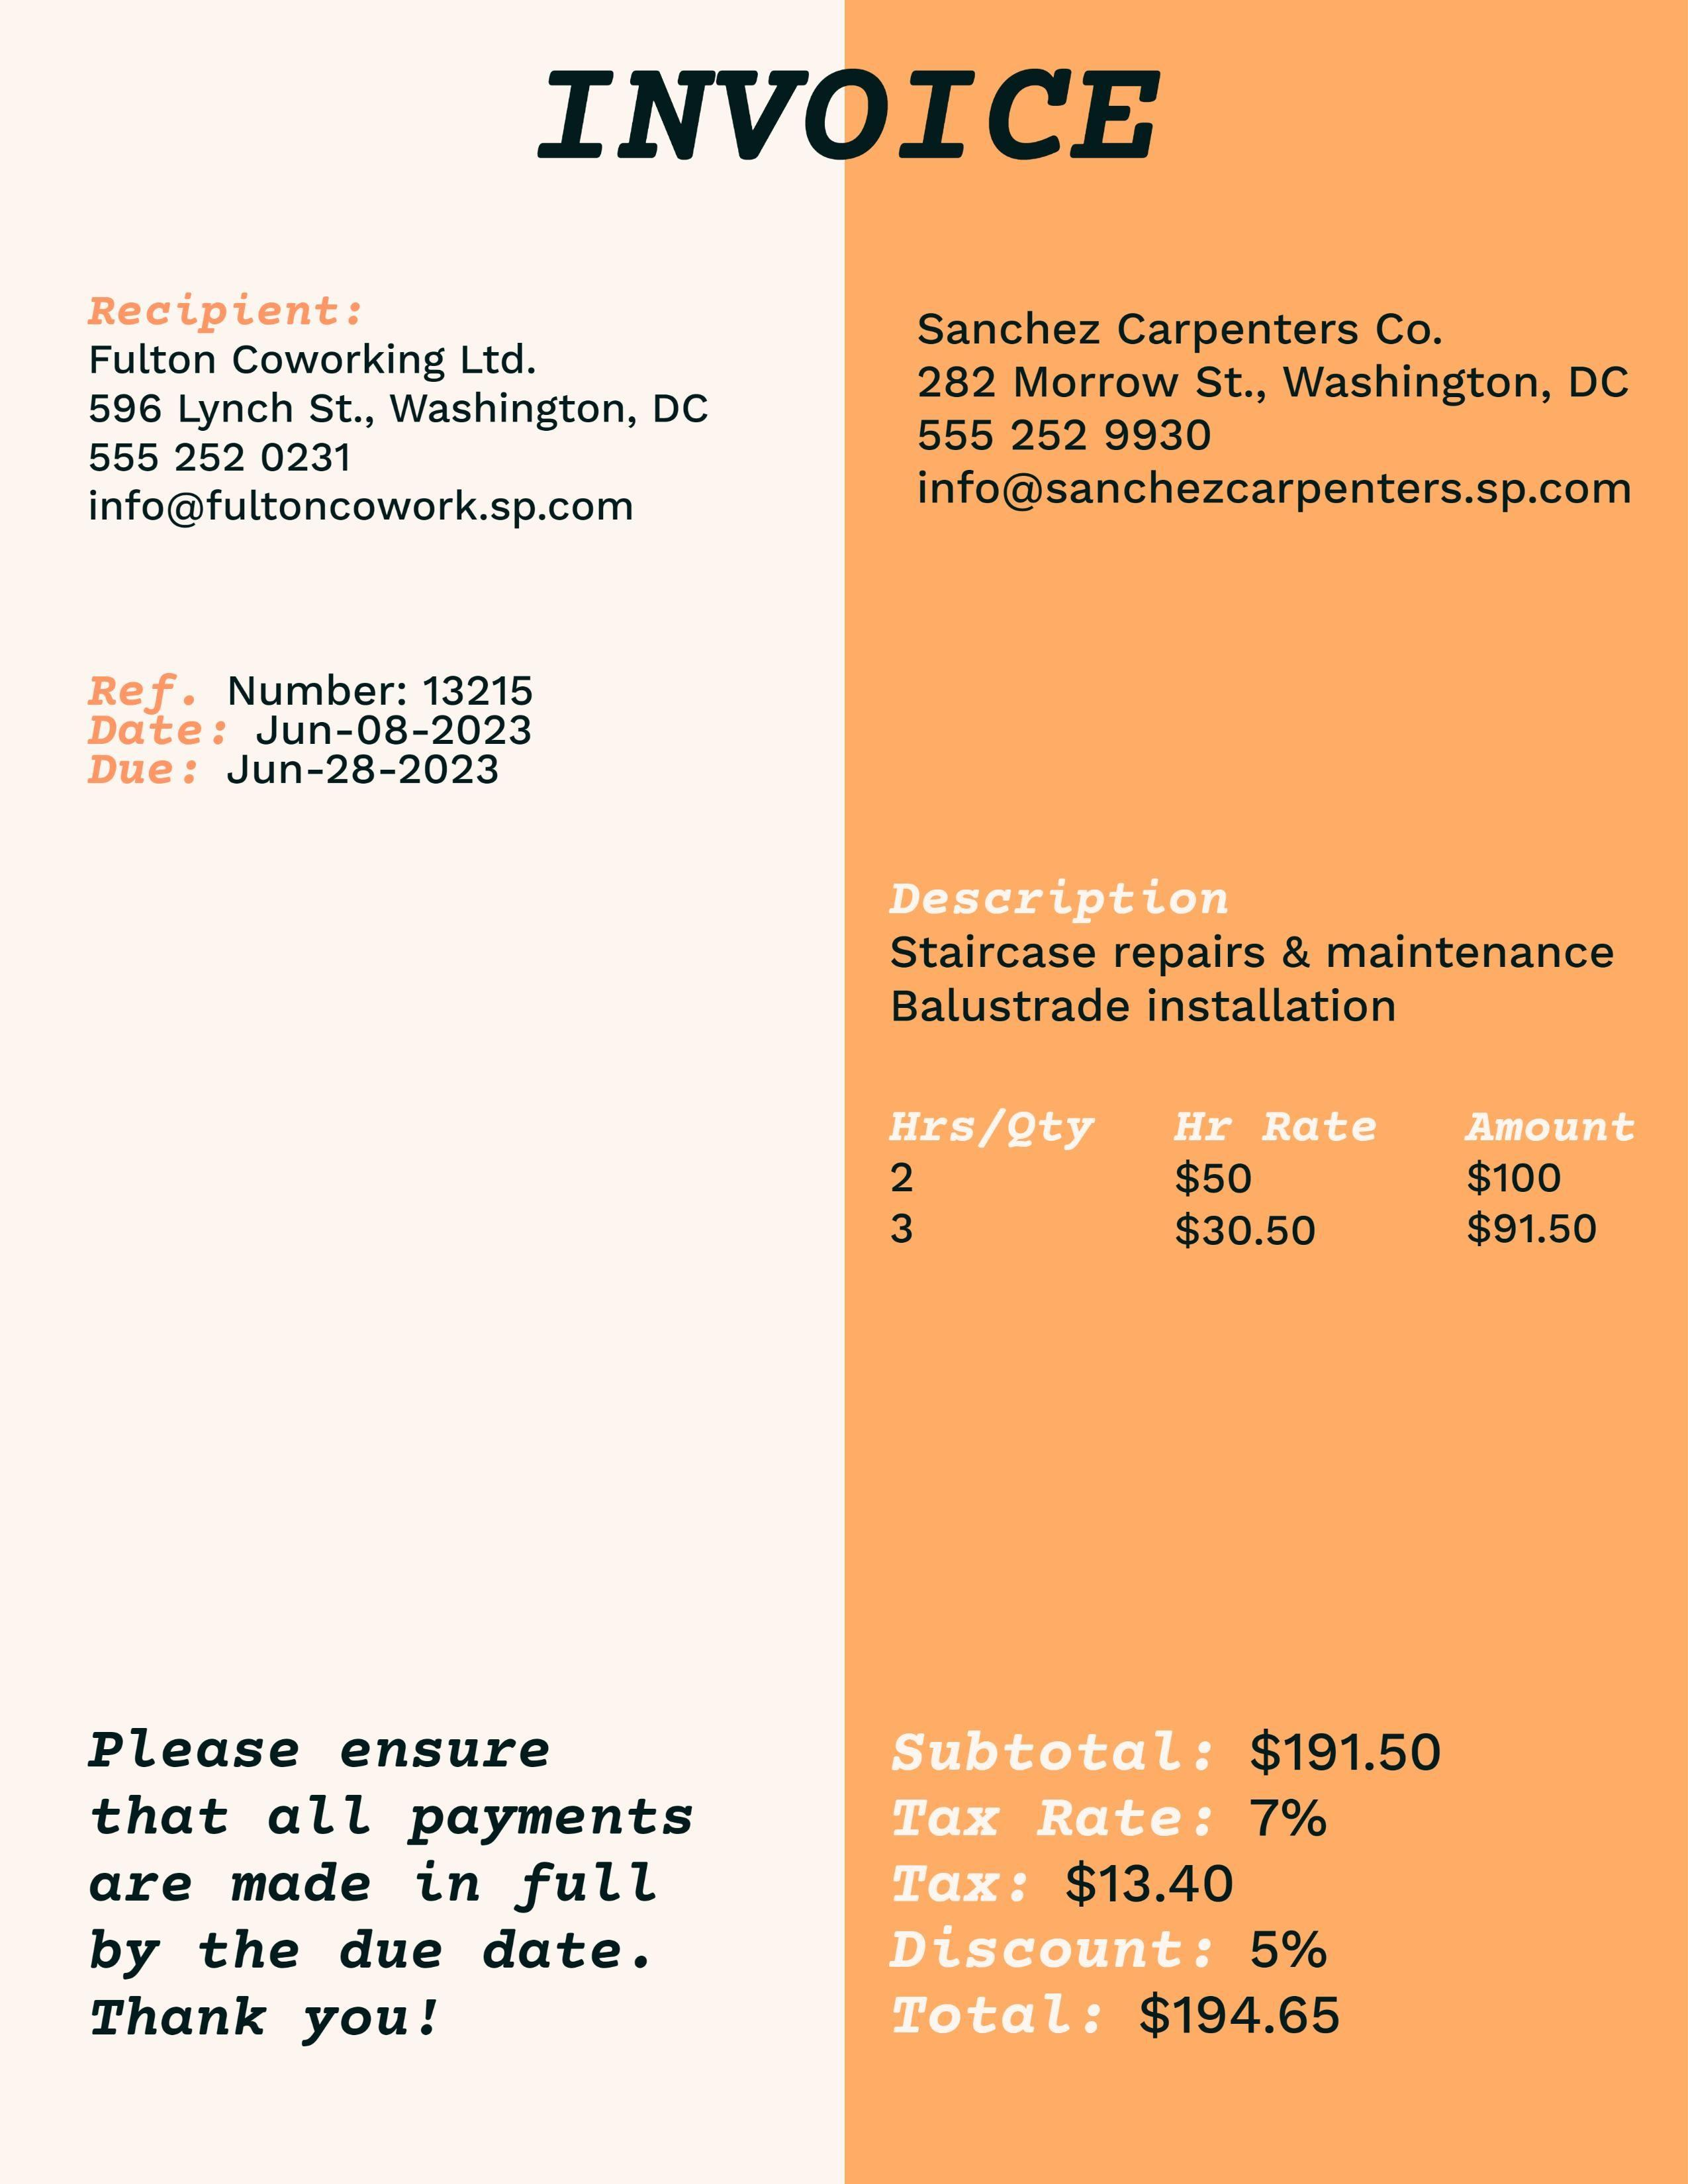ROI: (878, 1723, 1445, 2049), (904, 294, 1653, 525), (73, 1716, 711, 1985), (71, 282, 725, 542), (876, 1101, 1649, 1283), (82, 652, 553, 803)
